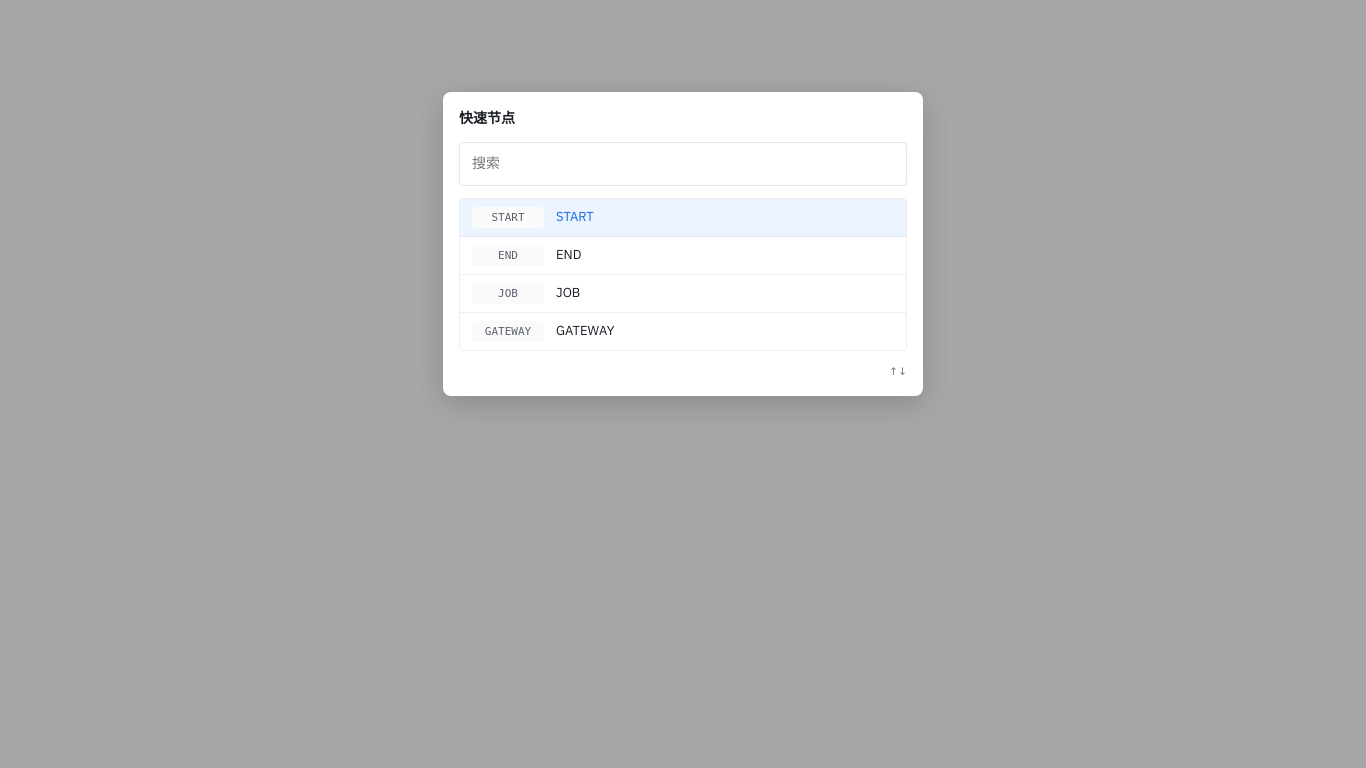
Test: QuickPalette › 搜索 "job" → 仅保留 JOB 类型行
Step 1. Type "job" into the field with placeholder "搜索" → (683, 164), box [459,142,907,186]
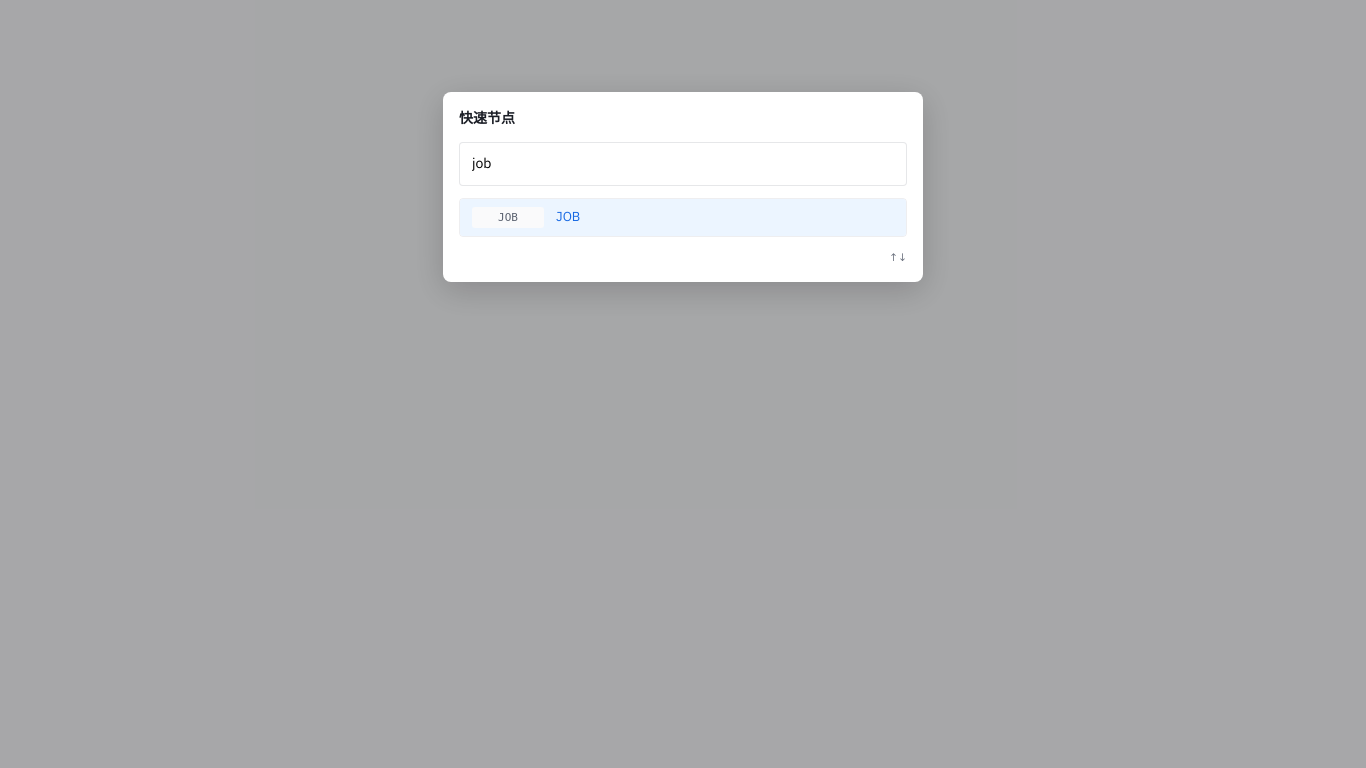
Expected: the option "JOB JOB" is shown, [460,198,906,236]
Result: the number of options is 1 at [460,198,906,236]
